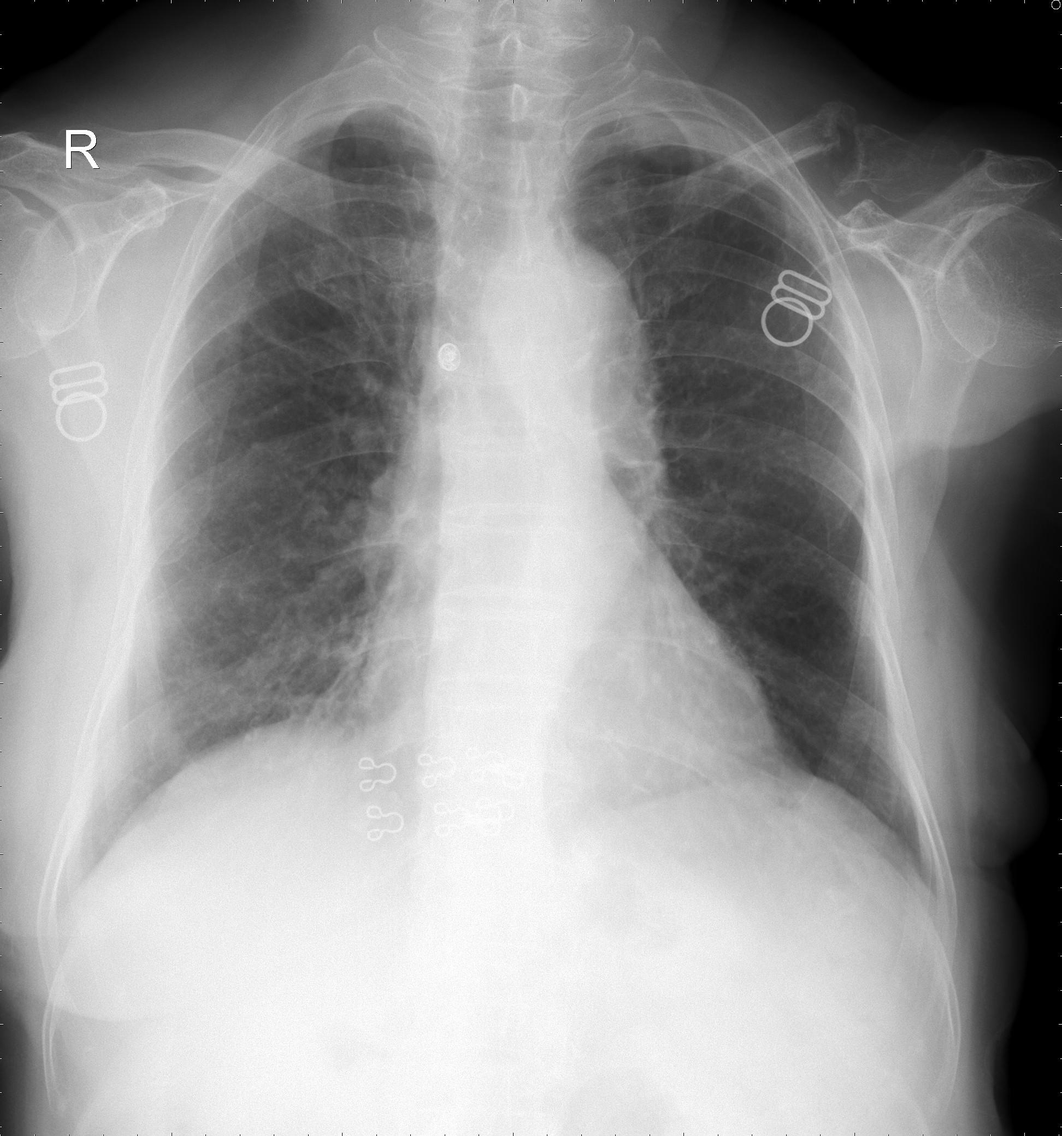Aortic enlargement: (469, 232, 653, 409)
